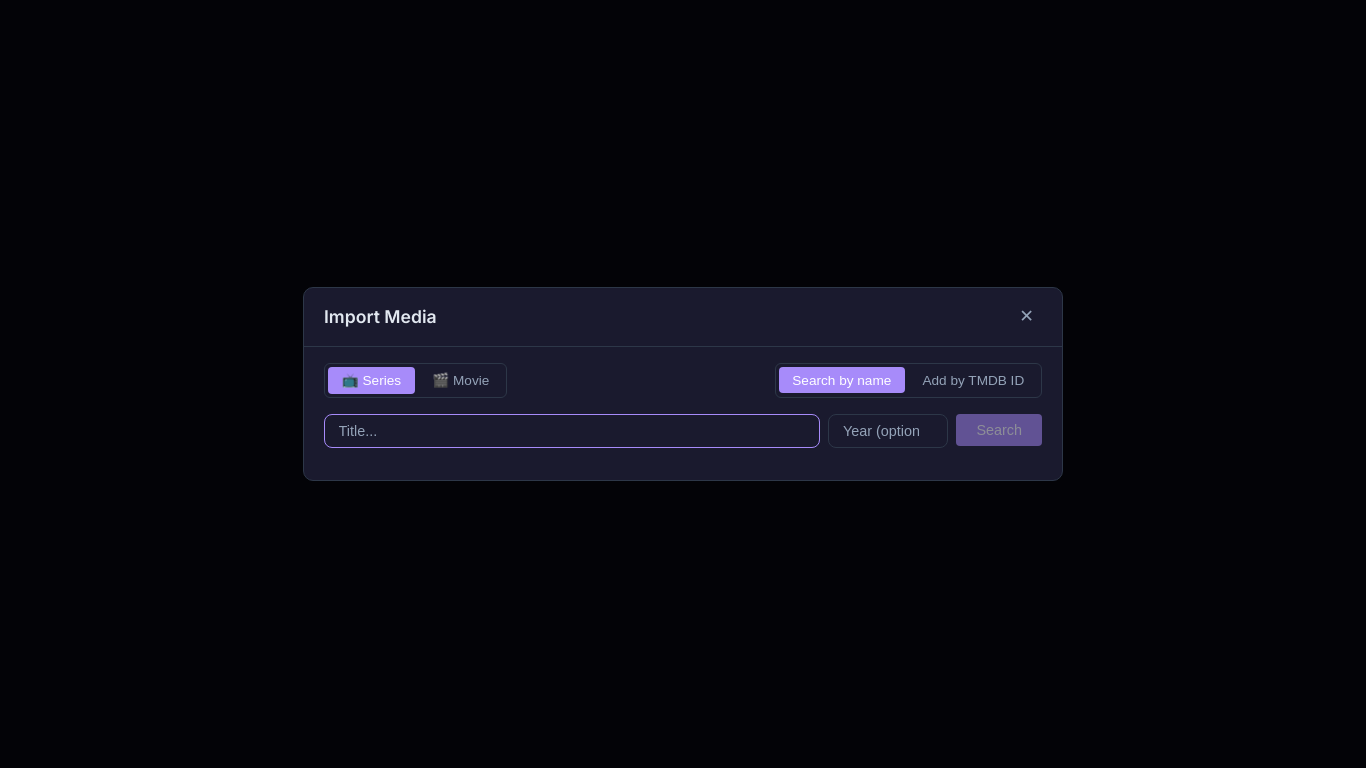
Test: ImportMediaModal › switches to add by ID mode
The width and height of the screenshot is (1366, 768).
Step 1. Click the button "Add by TMDB ID" → (973, 380), box [909,367,1038,393]
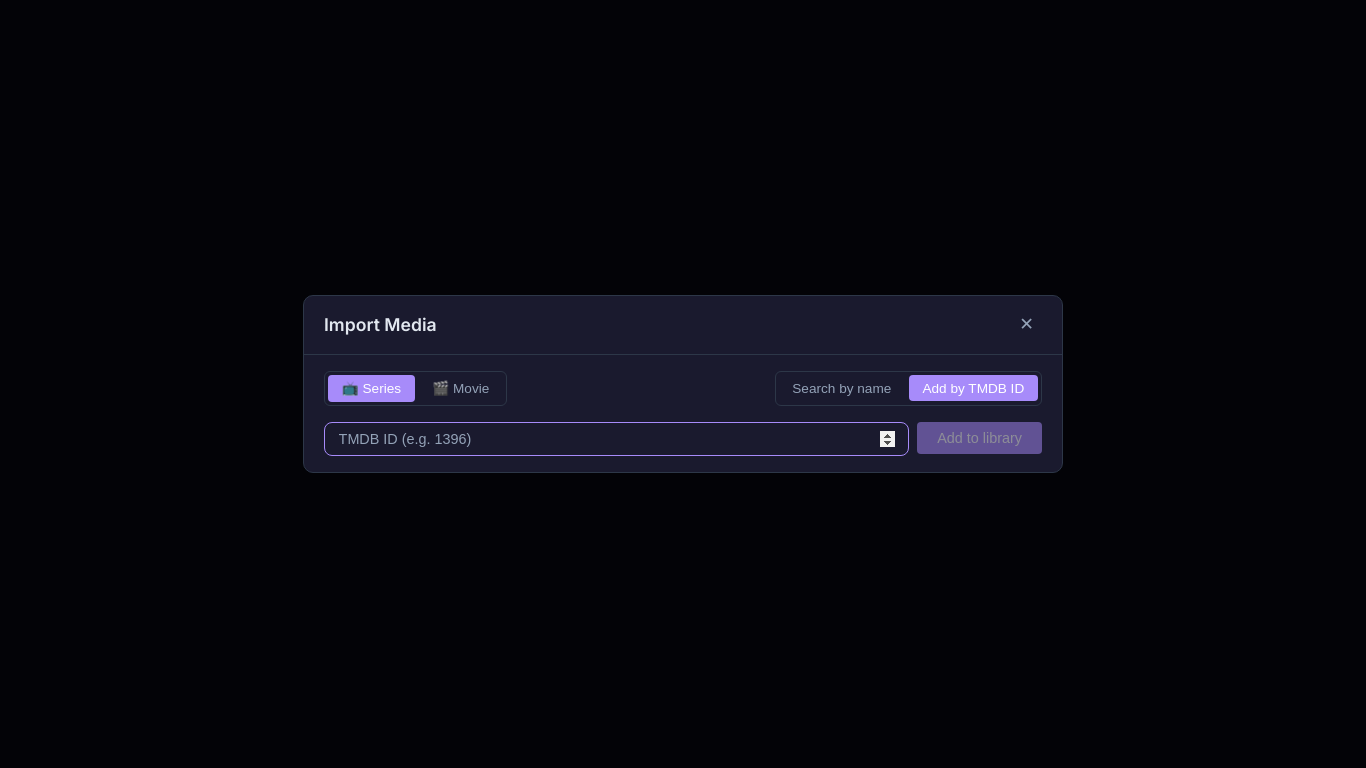
Result: the number field with placeholder "TMDB ID (e.g. 1396)" is shown at [324,422,909,456]
